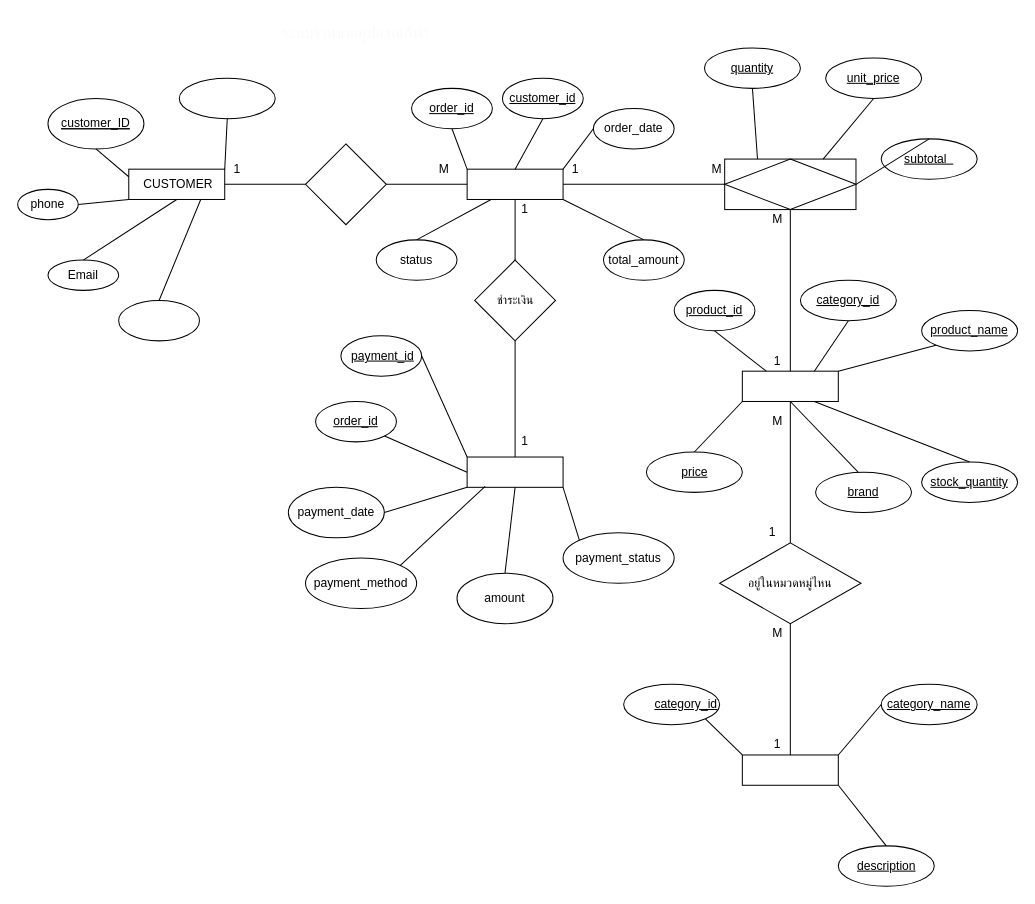
Image size: 1035x904. Some labels were removed from this diagram. The shapes that lost their labels are listed below. From the top down, each one's centre as x and y in pixels, then its label:
pixel 226 98: customer_Name
pixel 345 184: สั่งสินค้า
pixel 514 183: ORDER
pixel 790 184: ORDER_DETAIL
pixel 158 320: address
pixel 789 385: PRODUCT
pixel 514 471: PAYMENT
pixel 789 769: CATEGORY
